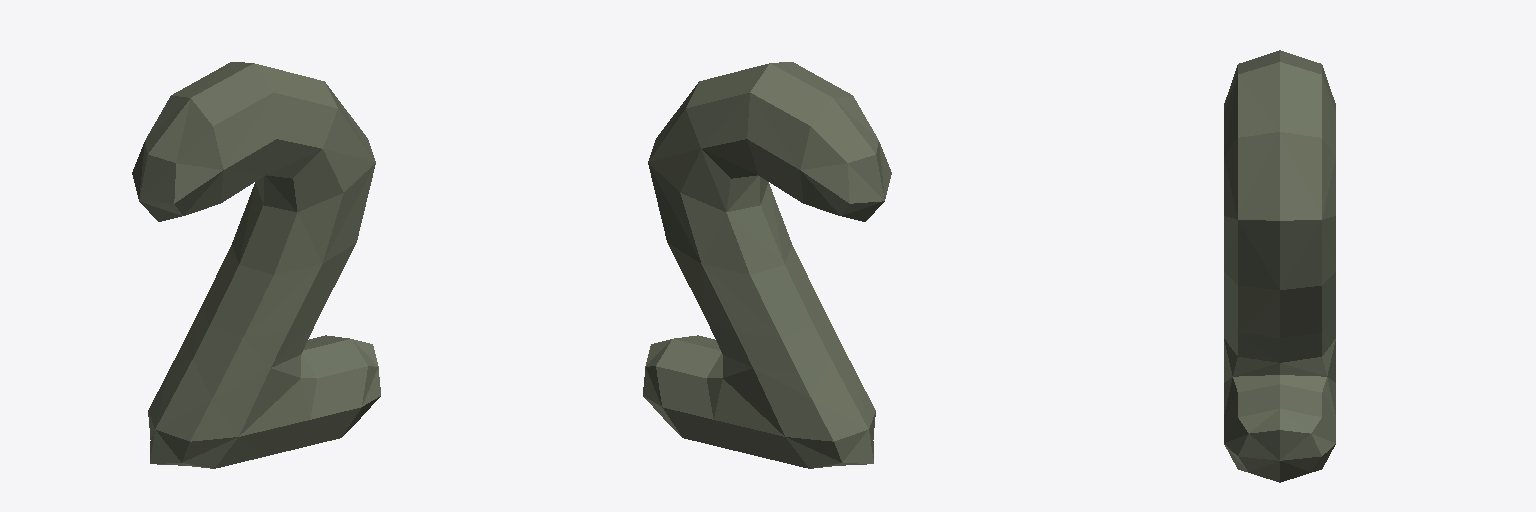
Rendered from Numbers_2.obj.
3 renders of one model, left to right at view 1: azimuth 30°, elevation 25°; view 2: azimuth 150°, elevation 25°; view 3: azimuth 270°, elevation 25°, orthographic.
Visible parts, largest first — view 1: Numbers_2_Cube.028; view 2: Numbers_2_Cube.028; view 3: Numbers_2_Cube.028.
Boxes of the visible parts, <box> form: Numbers_2_Cube.028: <box>132,62,380,468</box>; Numbers_2_Cube.028: <box>643,62,891,468</box>; Numbers_2_Cube.028: <box>1224,50,1335,482</box>.
Bounding box in the file's own units: 0.7064 × 1.11 × 0.2939.